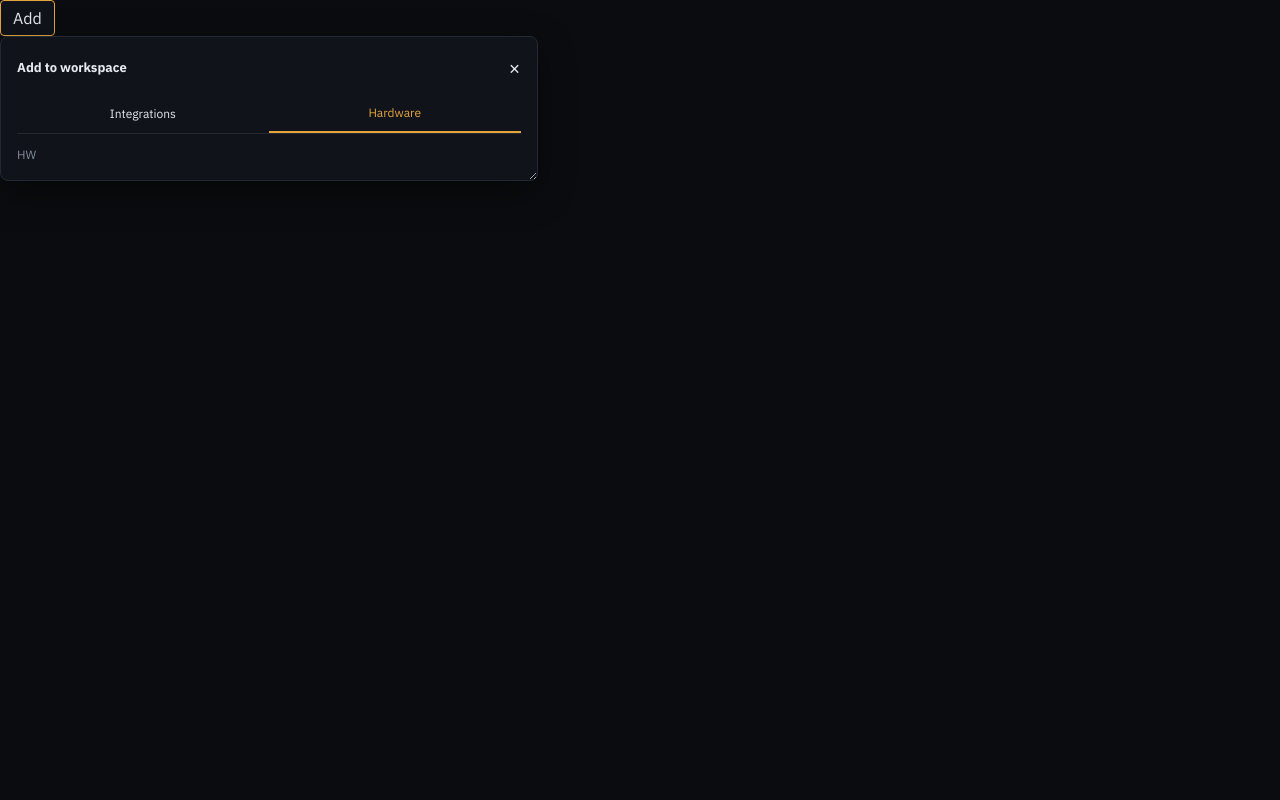
Scenario: opens on the requested tab when a sequence-keyed request arrives
The image size is (1280, 800).
Expected: the tab "Hardware" is shown, [269,95,521,133]
Expected: the text "HW" is shown, [17,147,36,162]
Click the button named "Close Add" at point(515, 68), box [509,53,521,83]
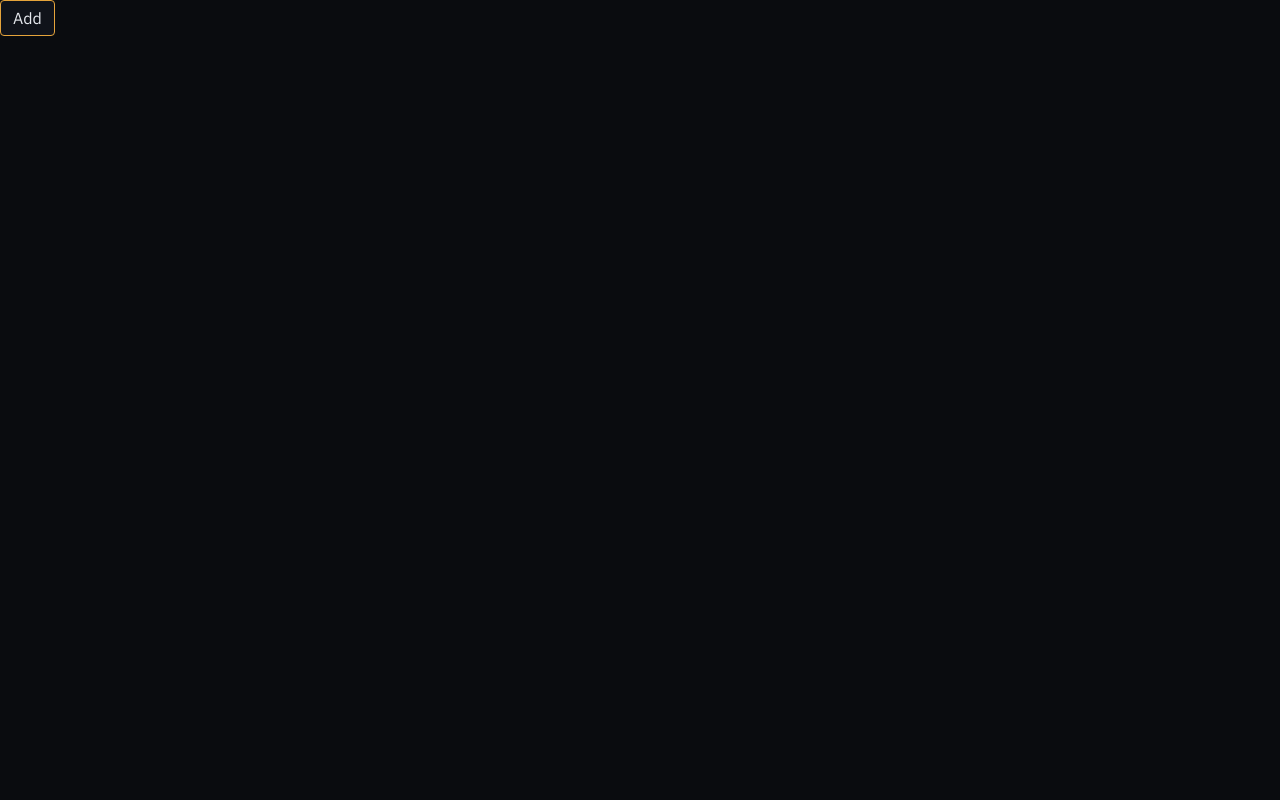
Expected: the dialog is gone
